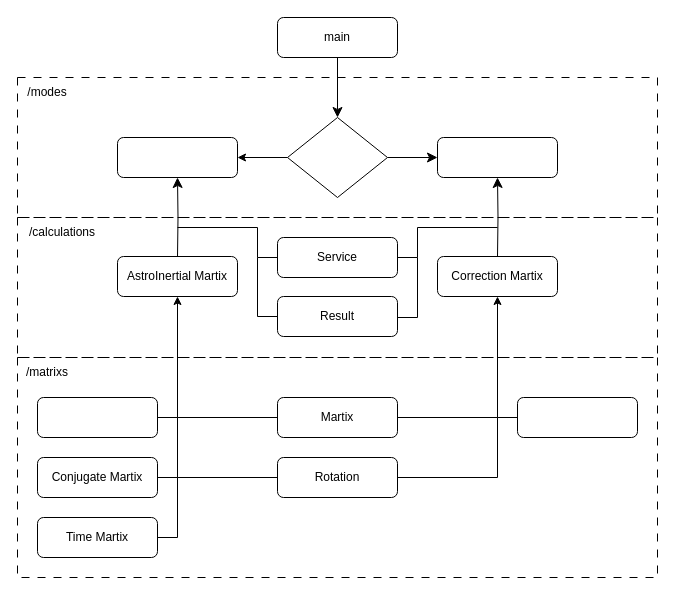
The diagram is 675 pixels wide and 595 high, and some of its shapes have lost their labels. The shapes that lost their labels are listed below. From the top down, each one's centre as x and y in pixels, then its label:
the point at 177,157: AstroInertial Mode
the point at 337,157: mode
the point at 497,157: Correction Mode
the point at 97,417: Astro Martix
the point at 577,417: Geography Martix
